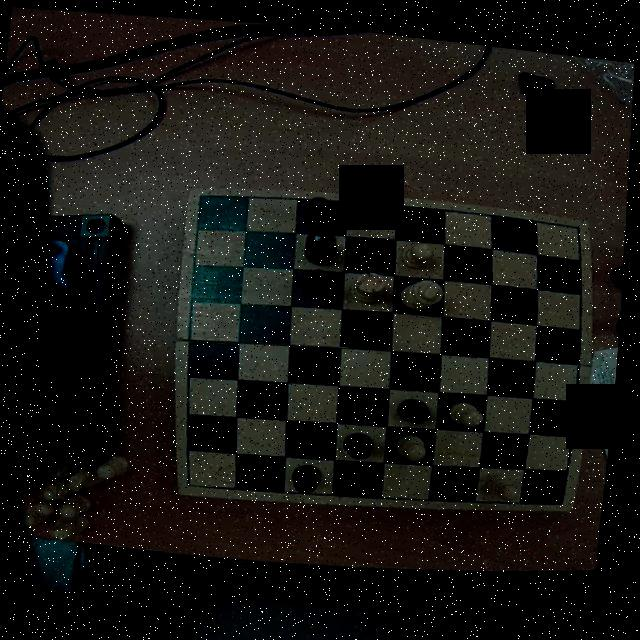chess-table-corners: (191, 184, 219, 209), (182, 466, 208, 490), (550, 483, 580, 502), (568, 212, 592, 232)
